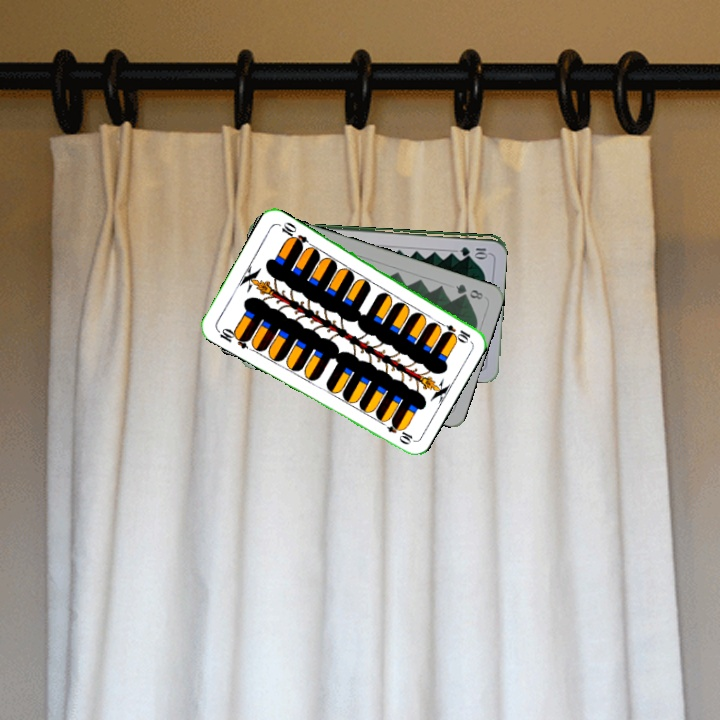E10: (213, 324, 252, 352), (434, 318, 473, 344)
G10: (456, 243, 490, 257)
G8: (451, 280, 486, 302)
